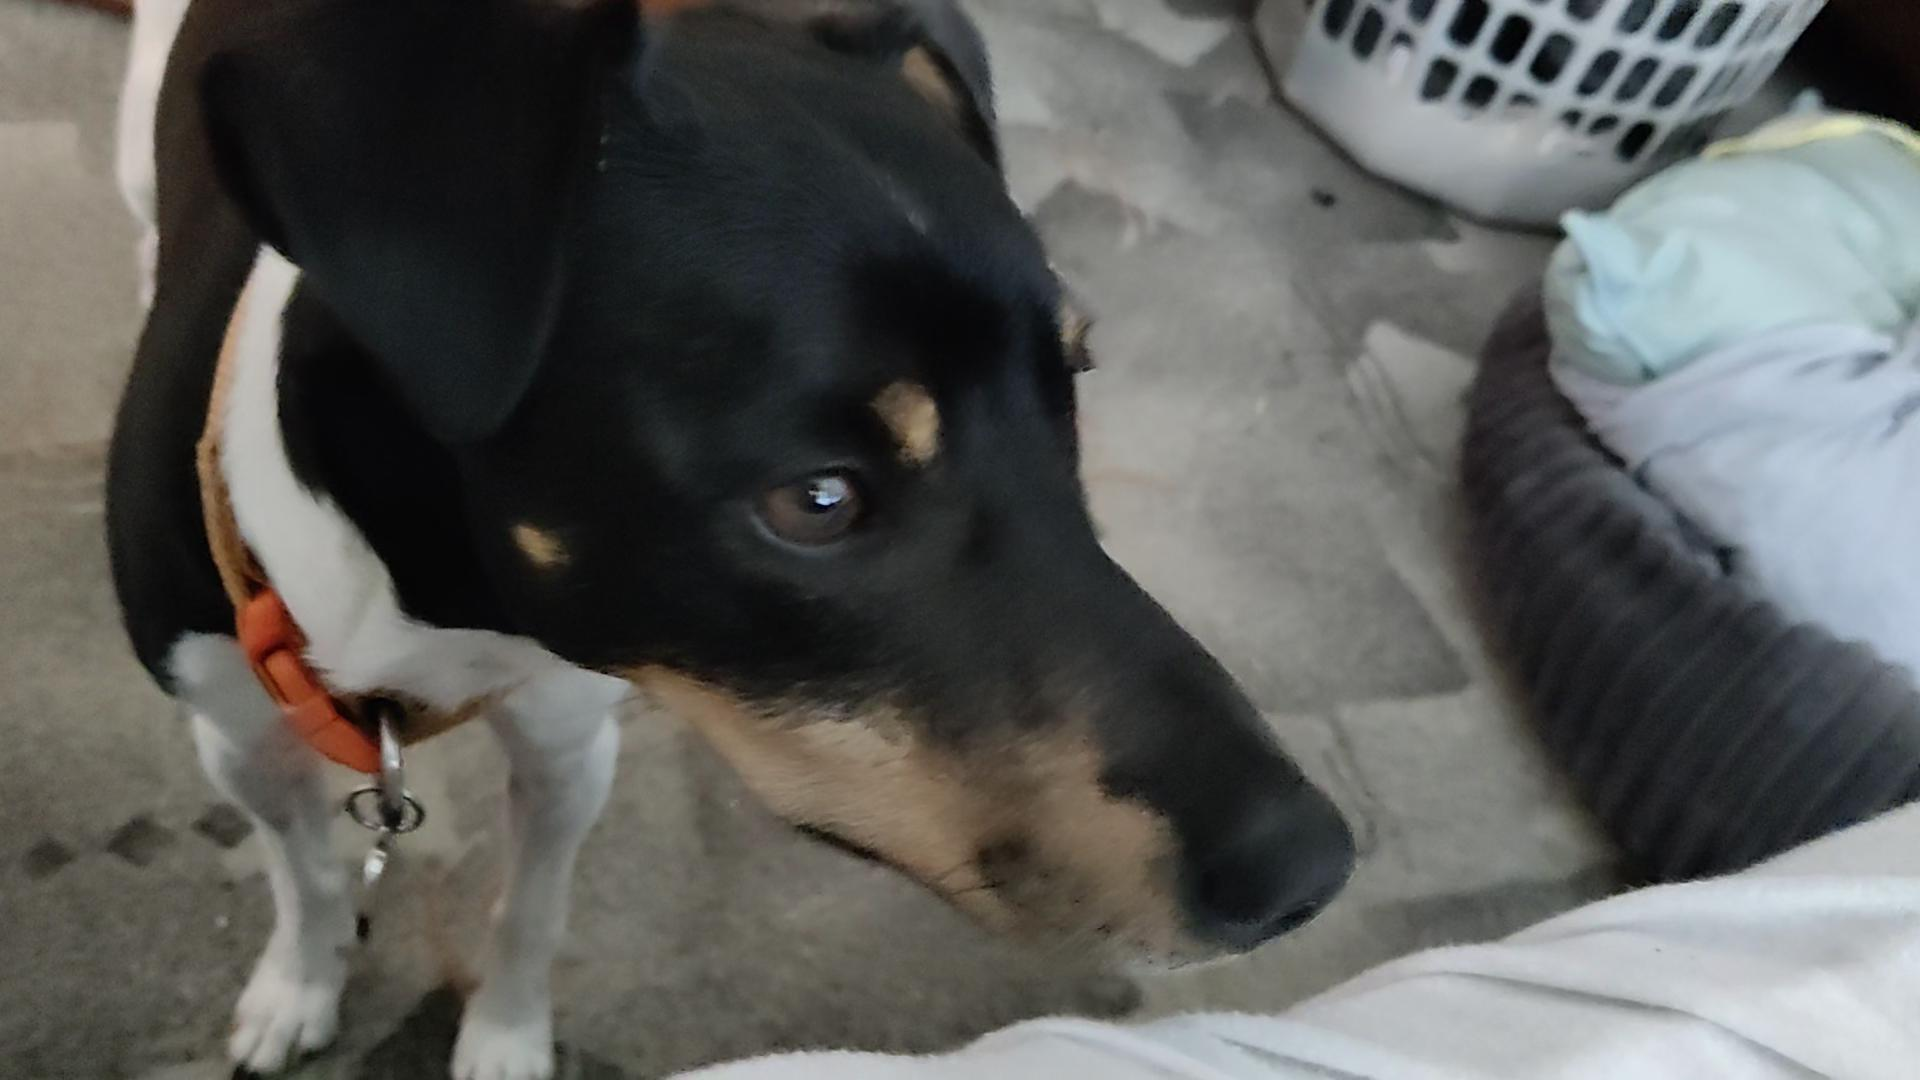Dog: (65, 0, 1382, 1080)
